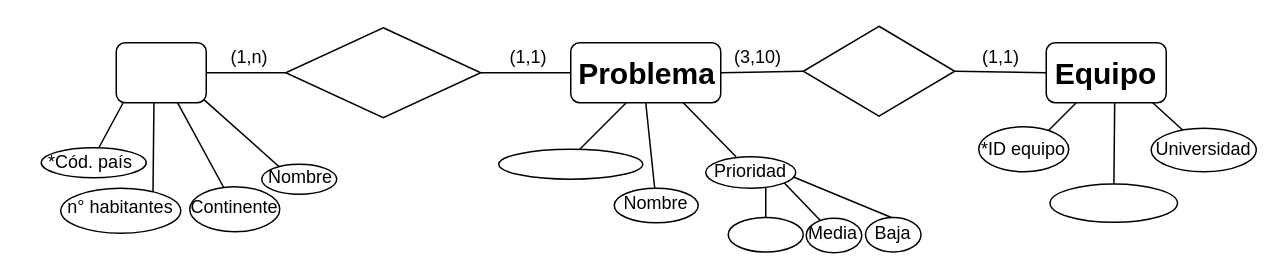
Image size: 1283x279. Some labels were removed from this diagram. Each missing label, with the box of its shape:
*Cód. problema: (497, 148, 643, 179)
Denominación: (1048, 183, 1178, 222)
Identificarse: (284, 26, 481, 118)
Investigar: (802, 25, 955, 116)
País: (115, 41, 206, 103)
Urgente: (727, 216, 803, 252)
